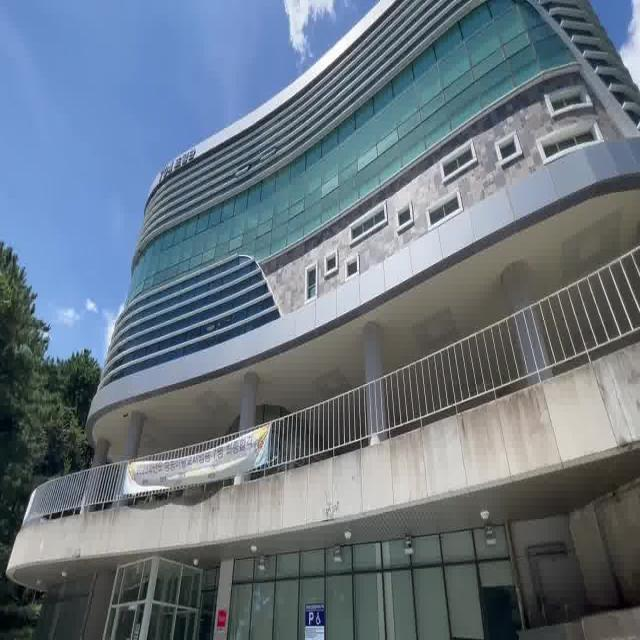building: (83, 0, 640, 627)
